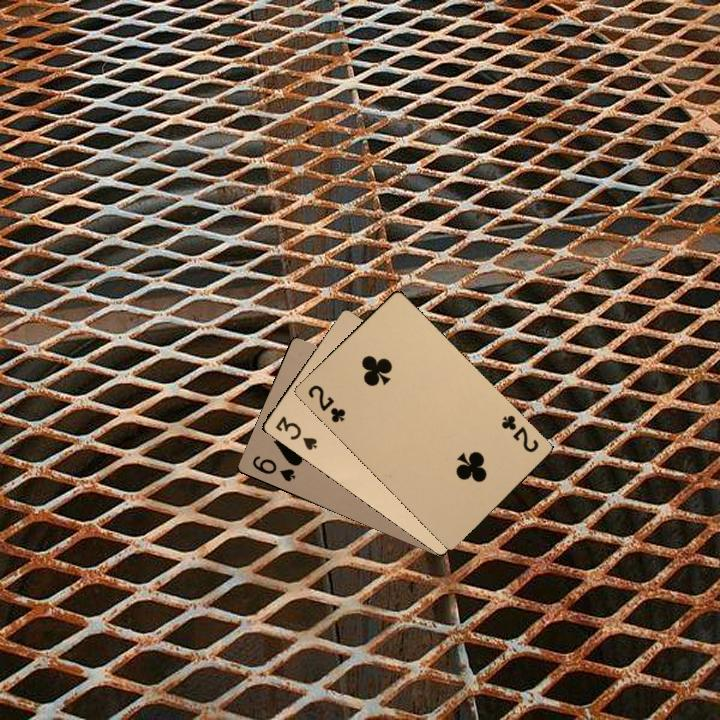2c: (304, 381, 348, 425), (497, 411, 541, 455)
3s: (271, 412, 320, 453)
6s: (248, 451, 298, 484)
